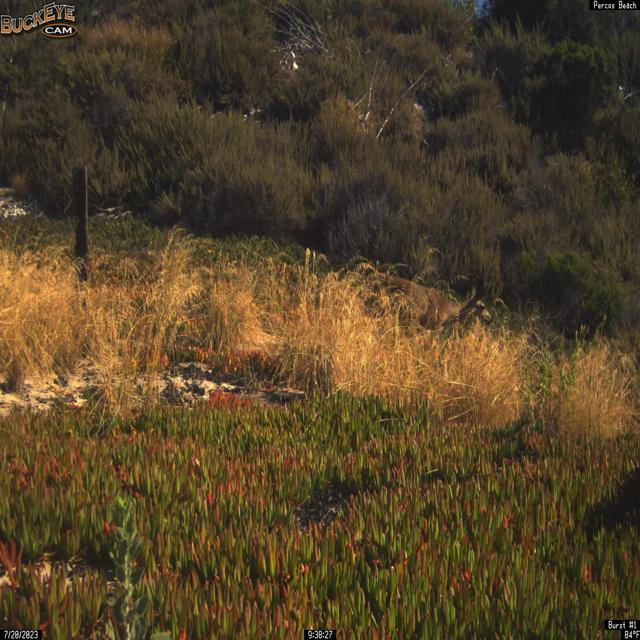deer: (364, 272, 493, 344)
